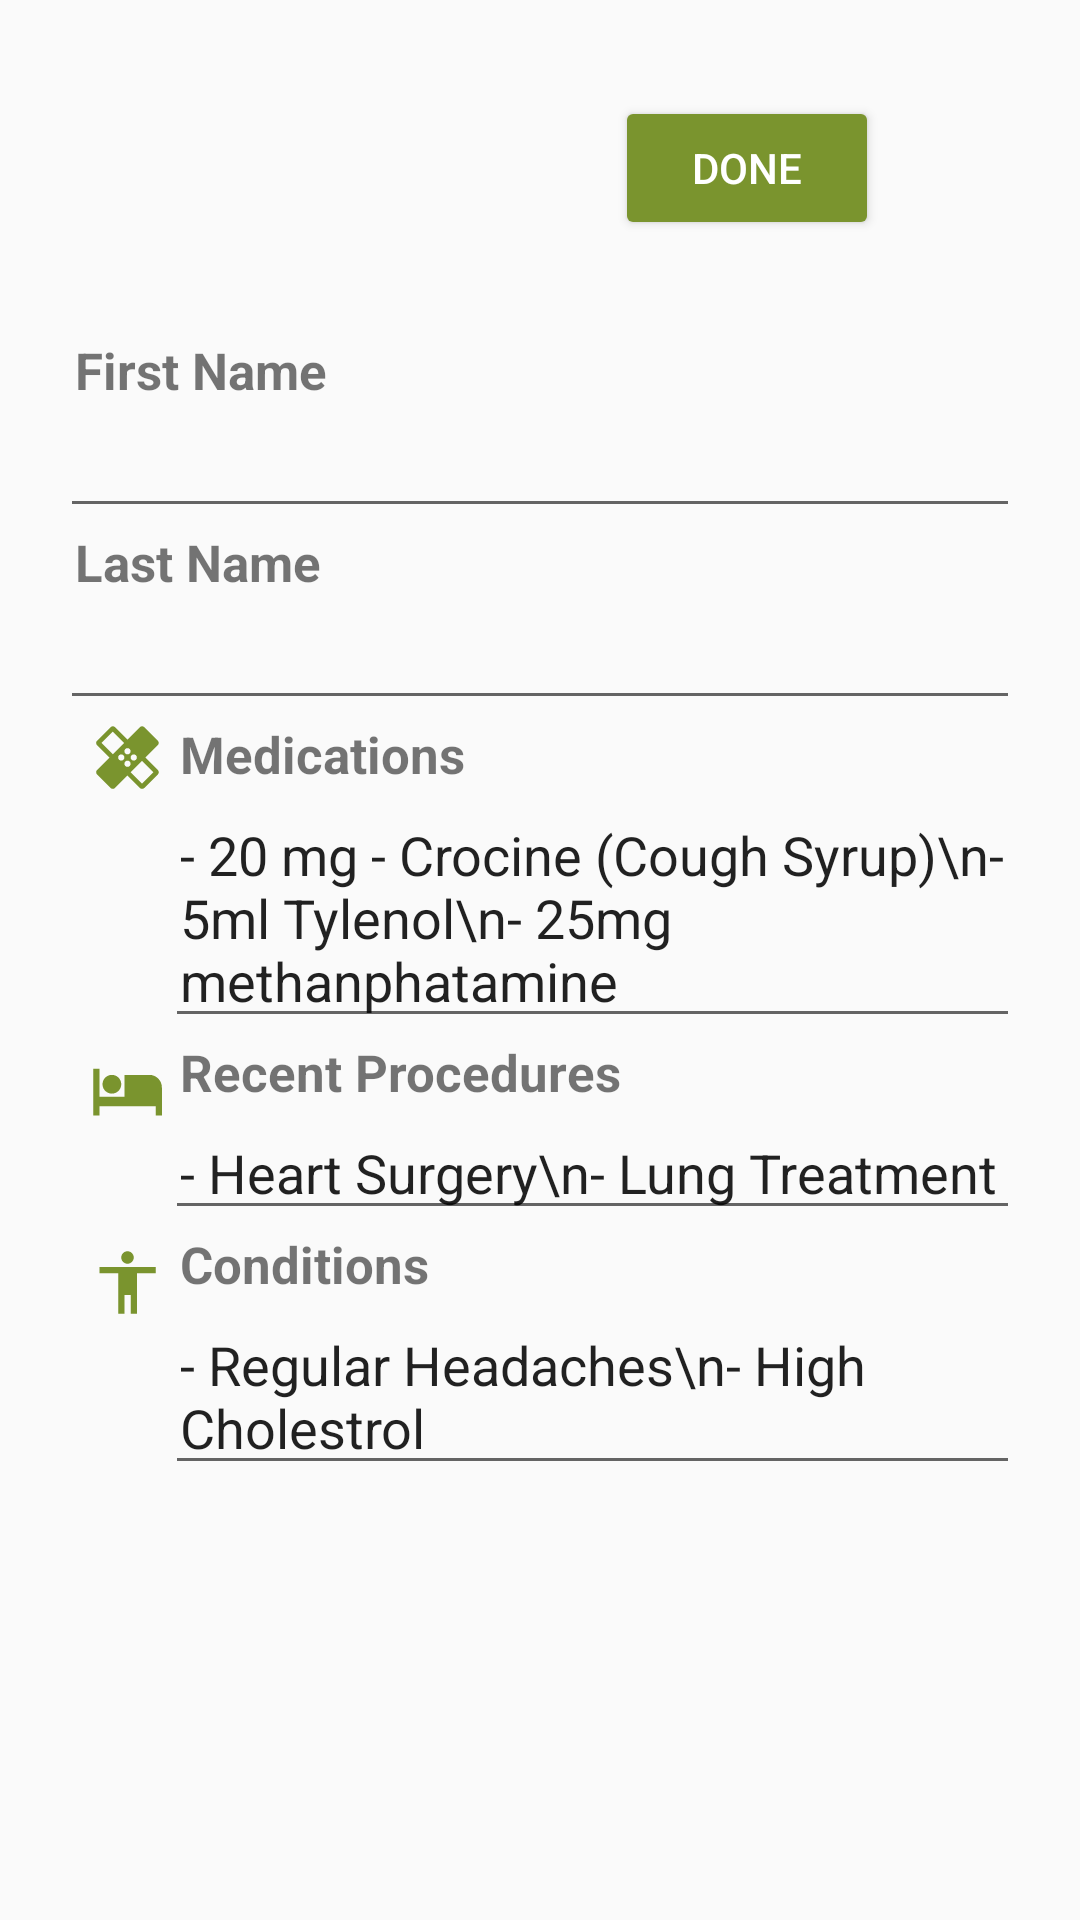

Icons on this 1080*1920 Android screen, each with the point to tap as (x,y):
accessibility: (127,1282)
healing: (127,757)
